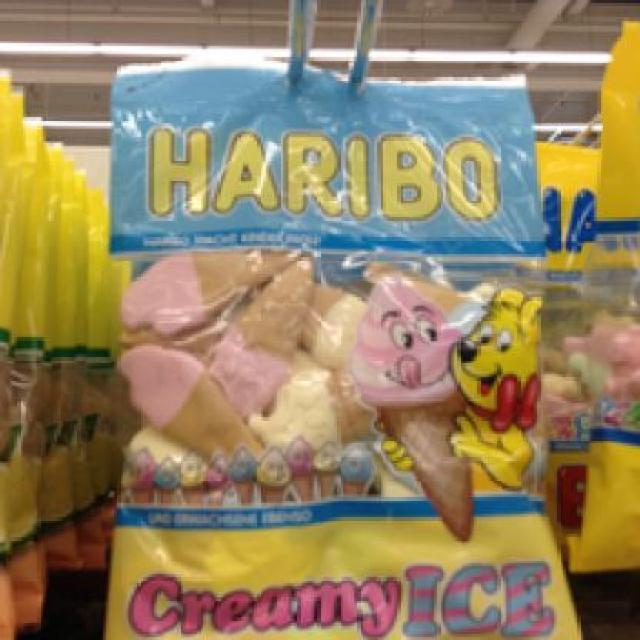Candy: (102, 57, 578, 637)
